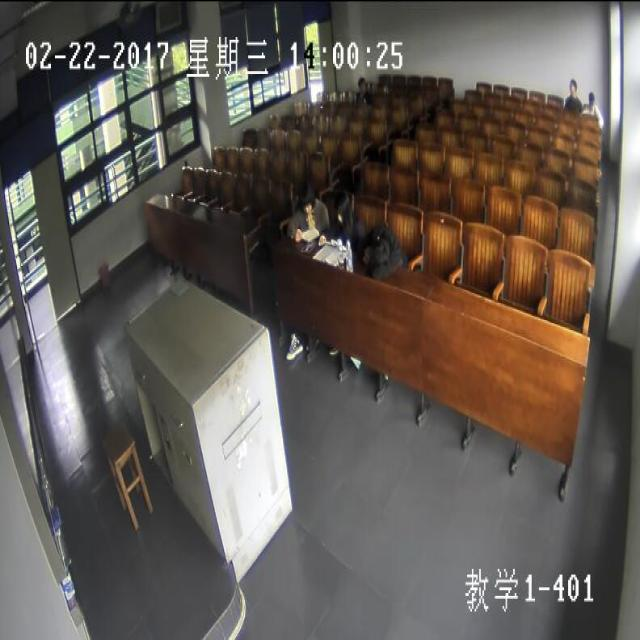person: (333, 186, 350, 224), (298, 183, 314, 210), (567, 76, 578, 92), (356, 73, 366, 88), (585, 88, 593, 104)
